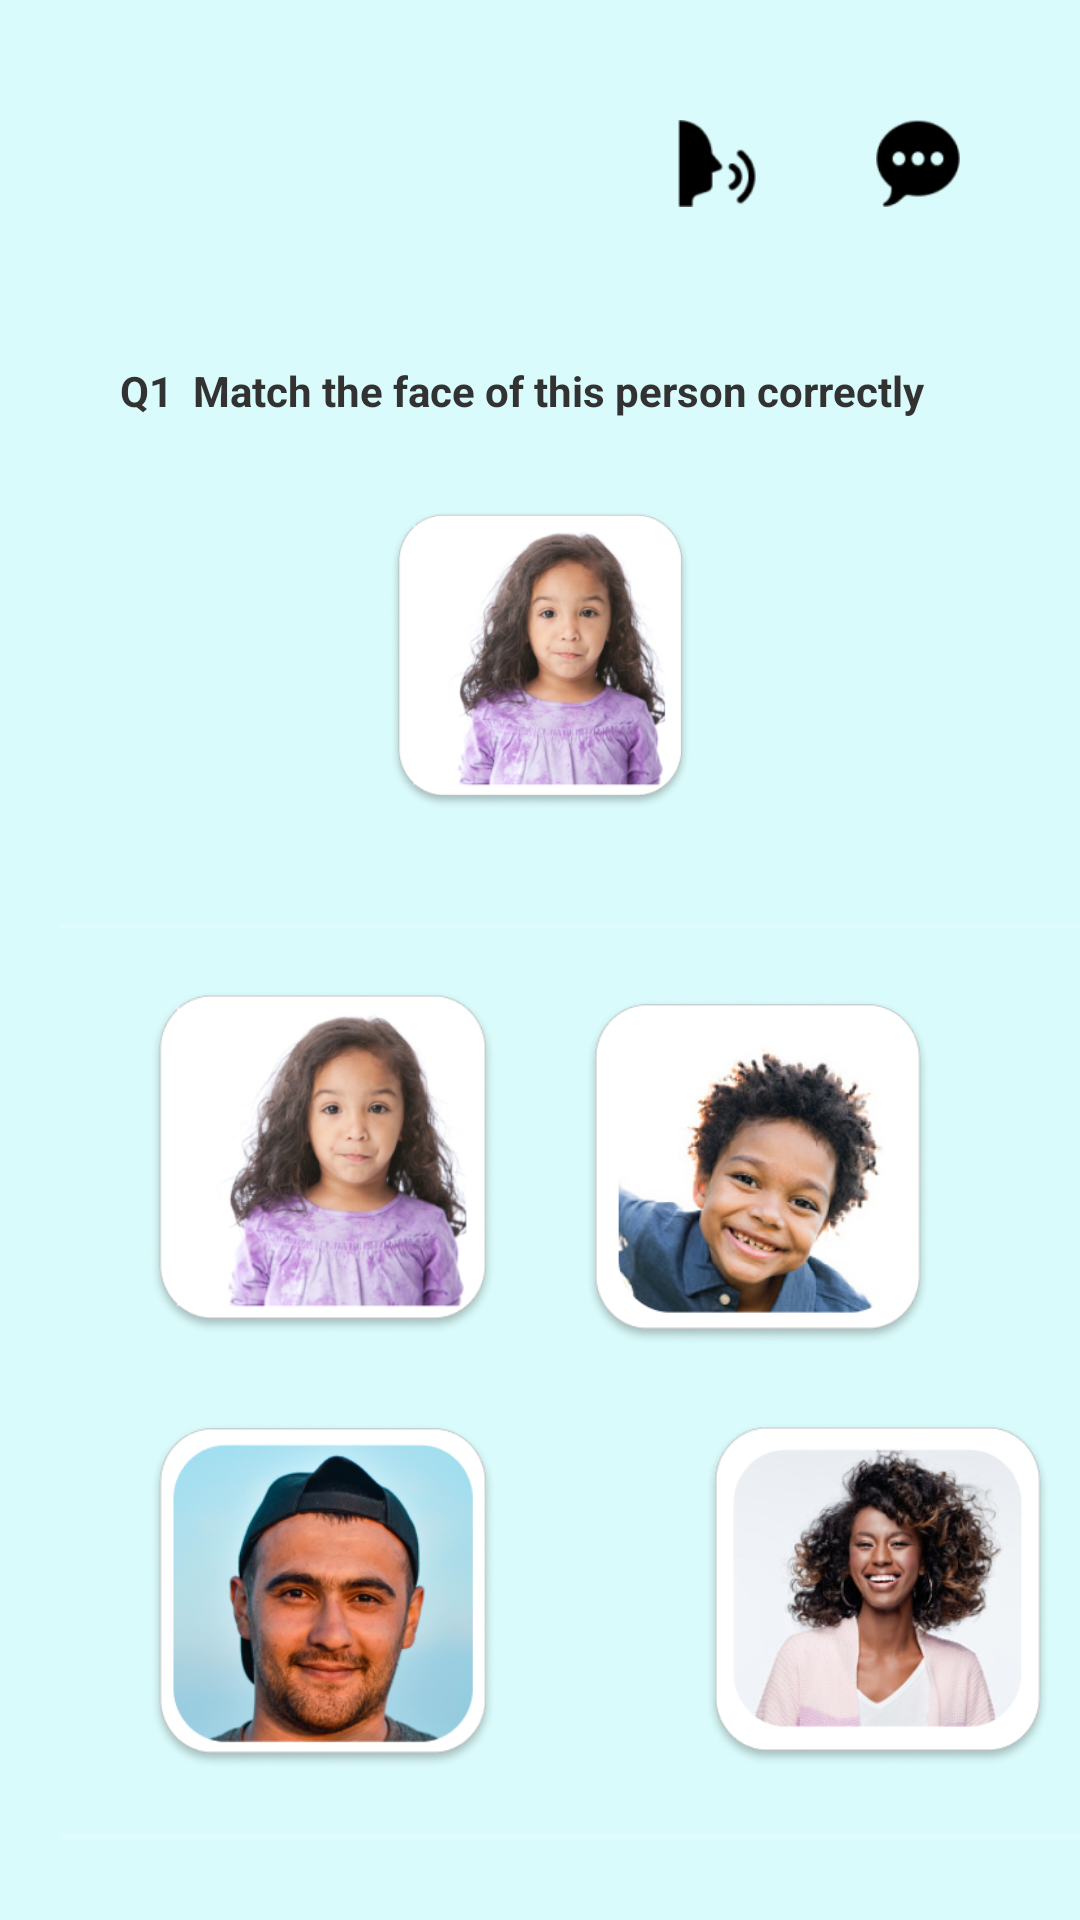

Screen size 1080×1920. Icon name, then its box in pixels as (x1, y1, x2, y2):
chatb: (876, 120, 960, 207)
fbig: (714, 1427, 1042, 1757)
mbig: (159, 1428, 487, 1760)
speak: (678, 120, 756, 207)
